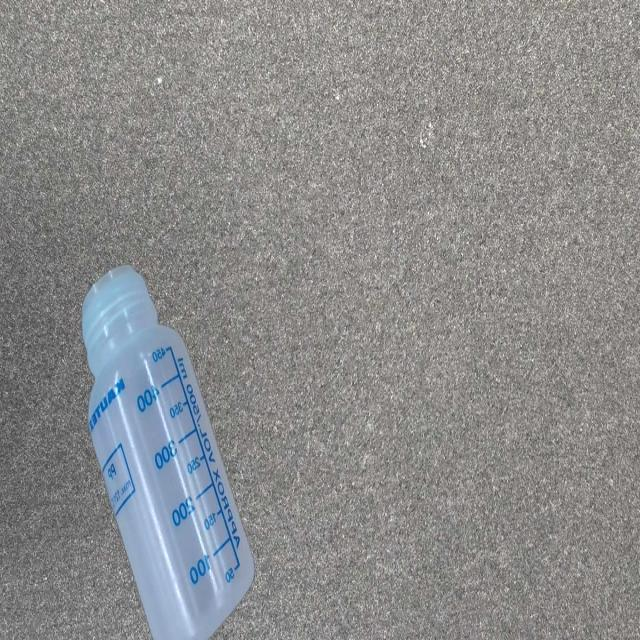bottle: (79, 261, 259, 640)
